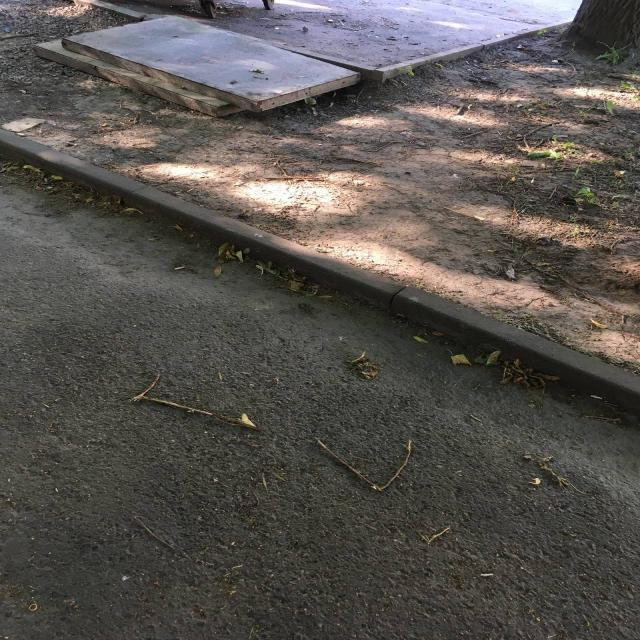bump: (363, 282, 639, 412), (201, 216, 407, 327), (62, 156, 217, 235)
